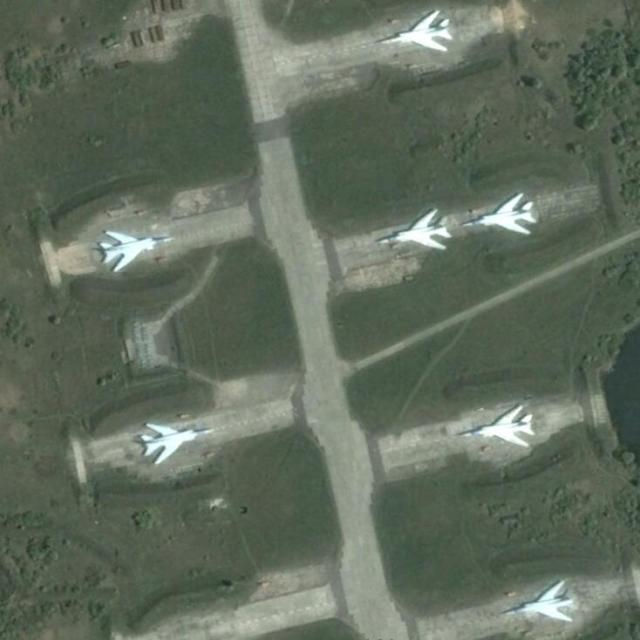fighter jet: (467, 401, 553, 464), (510, 573, 590, 637), (93, 225, 180, 276), (374, 15, 480, 55), (468, 192, 546, 246), (137, 419, 222, 463), (386, 205, 456, 250)
